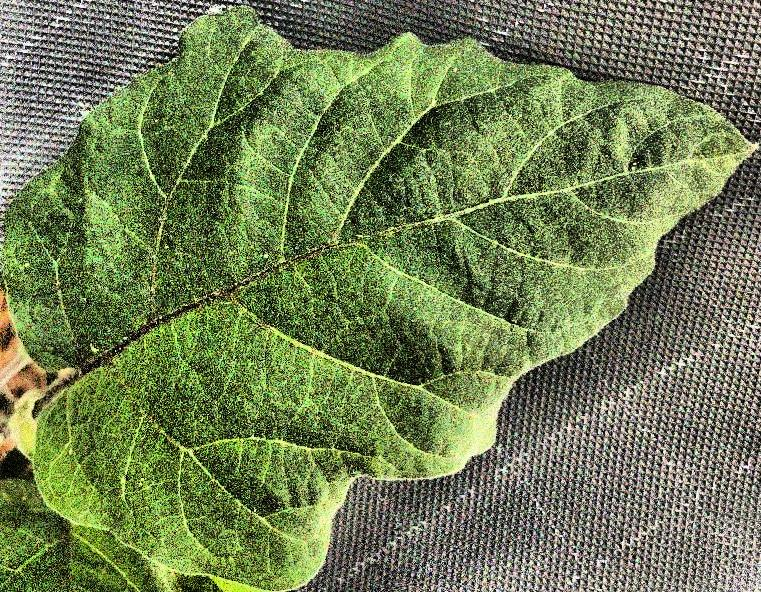HEALTHY: (0, 1, 761, 592)
